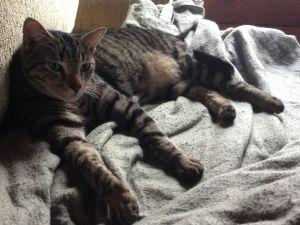bengal: (19, 17, 109, 108)
